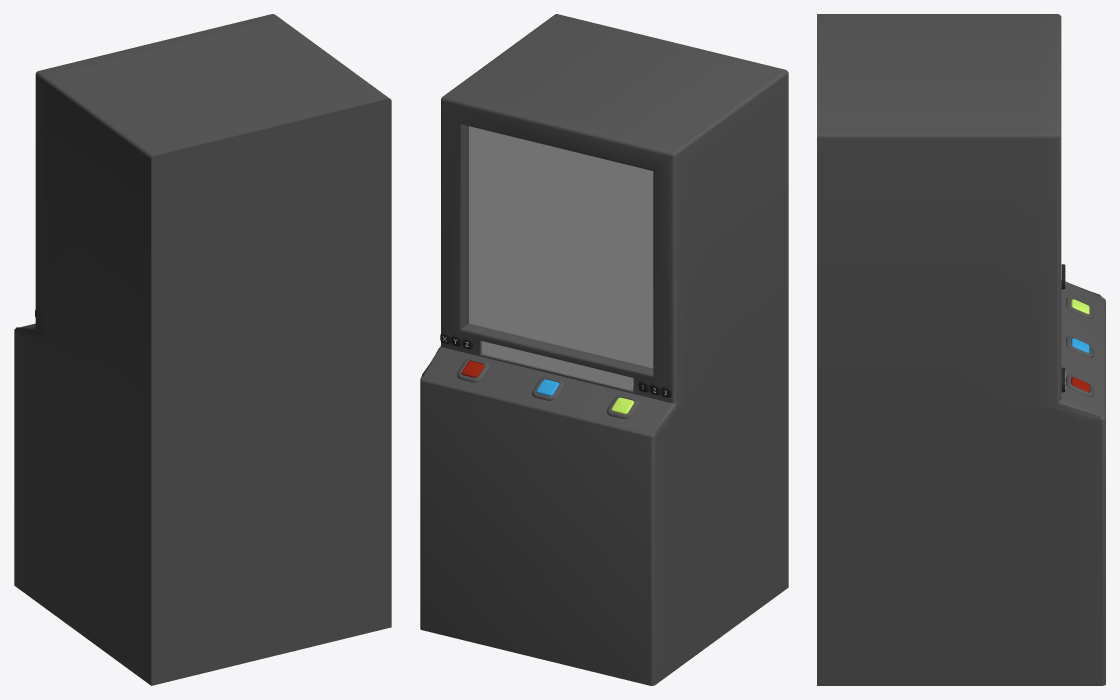
File: machine.fbx
The picture shows the model from 3 angles, left to right: view 1: azimuth 30°, elevation 25°; view 2: azimuth 150°, elevation 25°; view 3: azimuth 270°, elevation 25°; orthographic projection. The views are drawn at different scales.
Parts seen in each view (by area): view 1: Machine; view 2: Machine; view 3: Machine.
Boxes of the visible parts, bbox=[...] form: Machine: bbox=[14, 14, 391, 685]; Machine: bbox=[420, 14, 788, 685]; Machine: bbox=[817, 14, 1105, 685].
Size of the model in its own units: 415 by 866 by 412.
